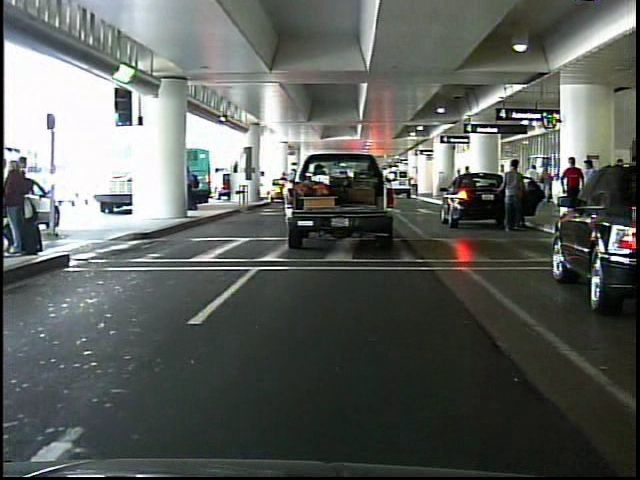person: (491, 152, 531, 236), (561, 155, 581, 188)
